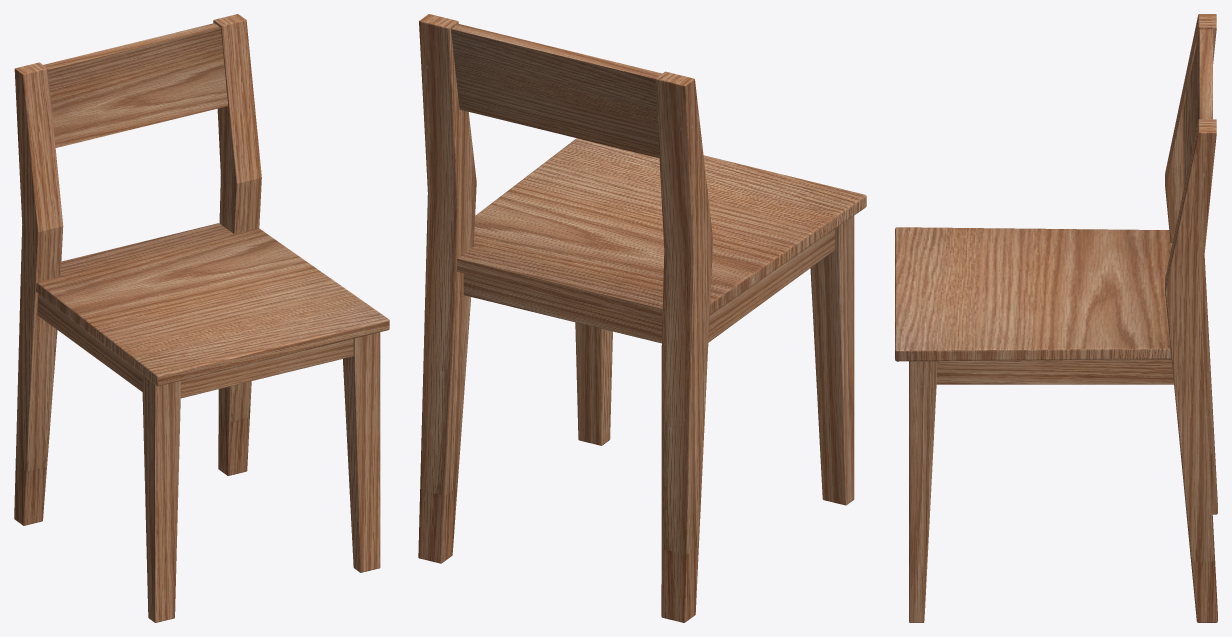
The model's file is yizi4.DAE.
The picture shows the model from 3 angles, left to right: view 1: azimuth 30°, elevation 25°; view 2: azimuth 150°, elevation 25°; view 3: azimuth 270°, elevation 25°; orthographic projection. The views are drawn at different scales.
Visible parts, largest first — view 1: Rectangle010; view 2: Rectangle010; view 3: Rectangle010.
Boxes of the visible parts, box(x1,y1,x2,y2) form: Rectangle010: box(14, 14, 389, 622); Rectangle010: box(418, 14, 866, 622); Rectangle010: box(895, 14, 1217, 622).
Size of the model in its own units: 434 by 803 by 479.
1 material, 1 textured.
